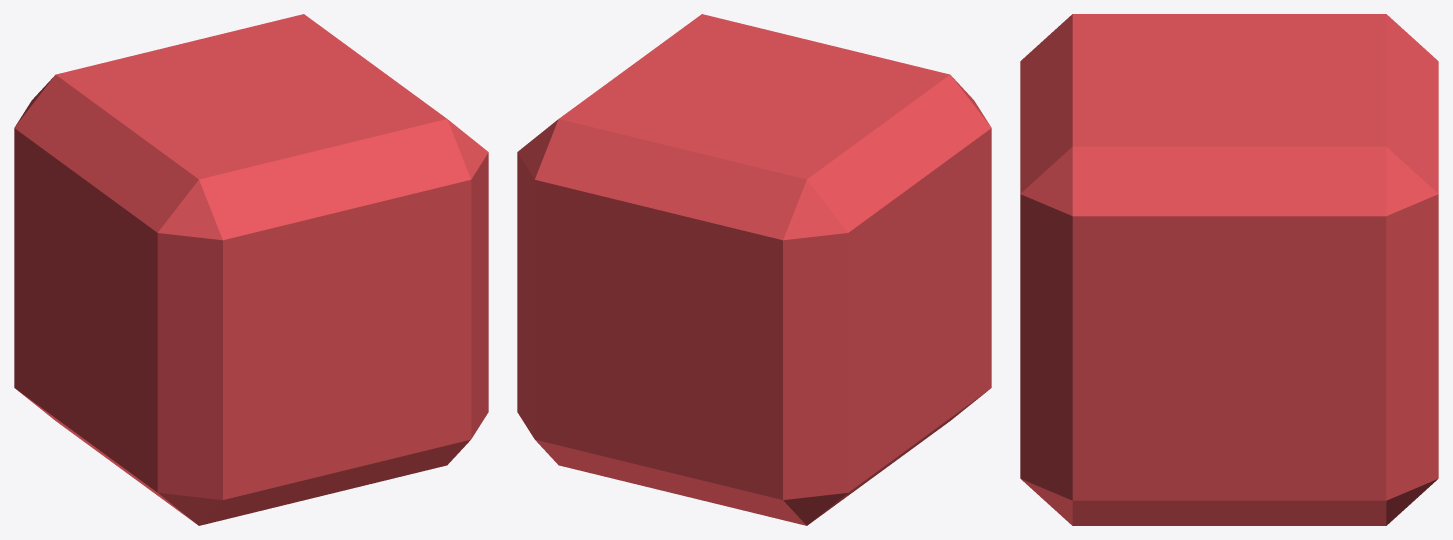
Rendered from Red.fbx.
3 views of the same model, side by side, from view 1: azimuth 30°, elevation 25°; view 2: azimuth 150°, elevation 25°; view 3: azimuth 270°, elevation 25° (orthographic). The views are drawn at different scales.
Parts seen in each view (by area): view 1: Red; view 2: Red; view 3: Red.
Part boxes in pixels (bbox=[...]): Red: bbox=[14, 14, 488, 525]; Red: bbox=[517, 14, 991, 525]; Red: bbox=[1020, 14, 1438, 525].
Bounding box in the file's own units: 200 × 200 × 200.
